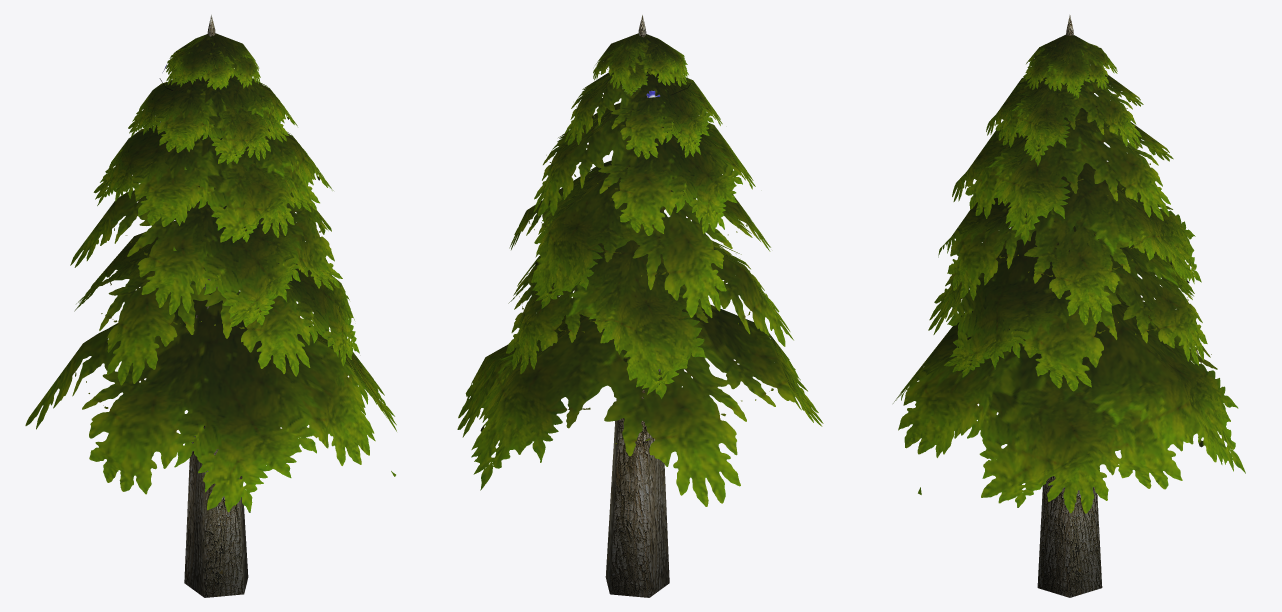
The model's file is Tree_2a_atlas.fbx.
The picture shows the model from 3 angles, left to right: view 1: azimuth 30°, elevation 25°; view 2: azimuth 150°, elevation 25°; view 3: azimuth 270°, elevation 25°; orthographic projection.
Visible parts, largest first — view 1: polySurface75; view 2: polySurface75; view 3: polySurface75.
Boxes of the visible parts, bbox=[...] form: polySurface75: bbox=[25, 14, 396, 597]; polySurface75: bbox=[457, 15, 823, 597]; polySurface75: bbox=[893, 14, 1245, 597].
Size of the model in its own units: 5.42 by 8.57 by 5.42.
